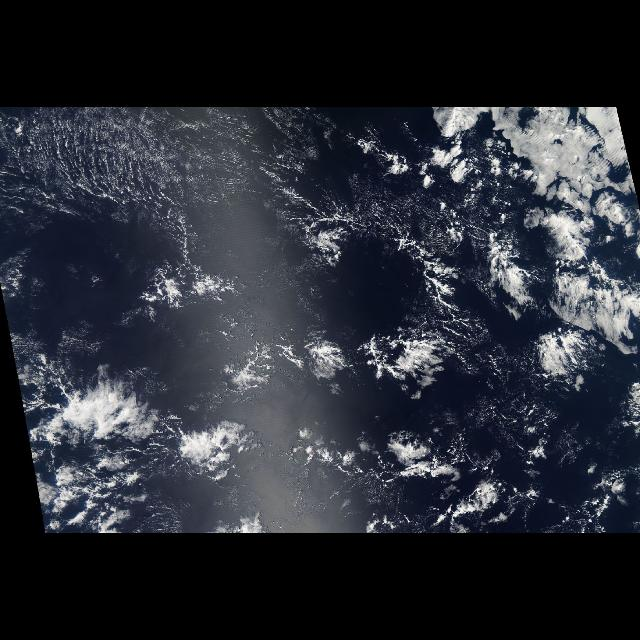Sugar: (4, 108, 496, 388)
